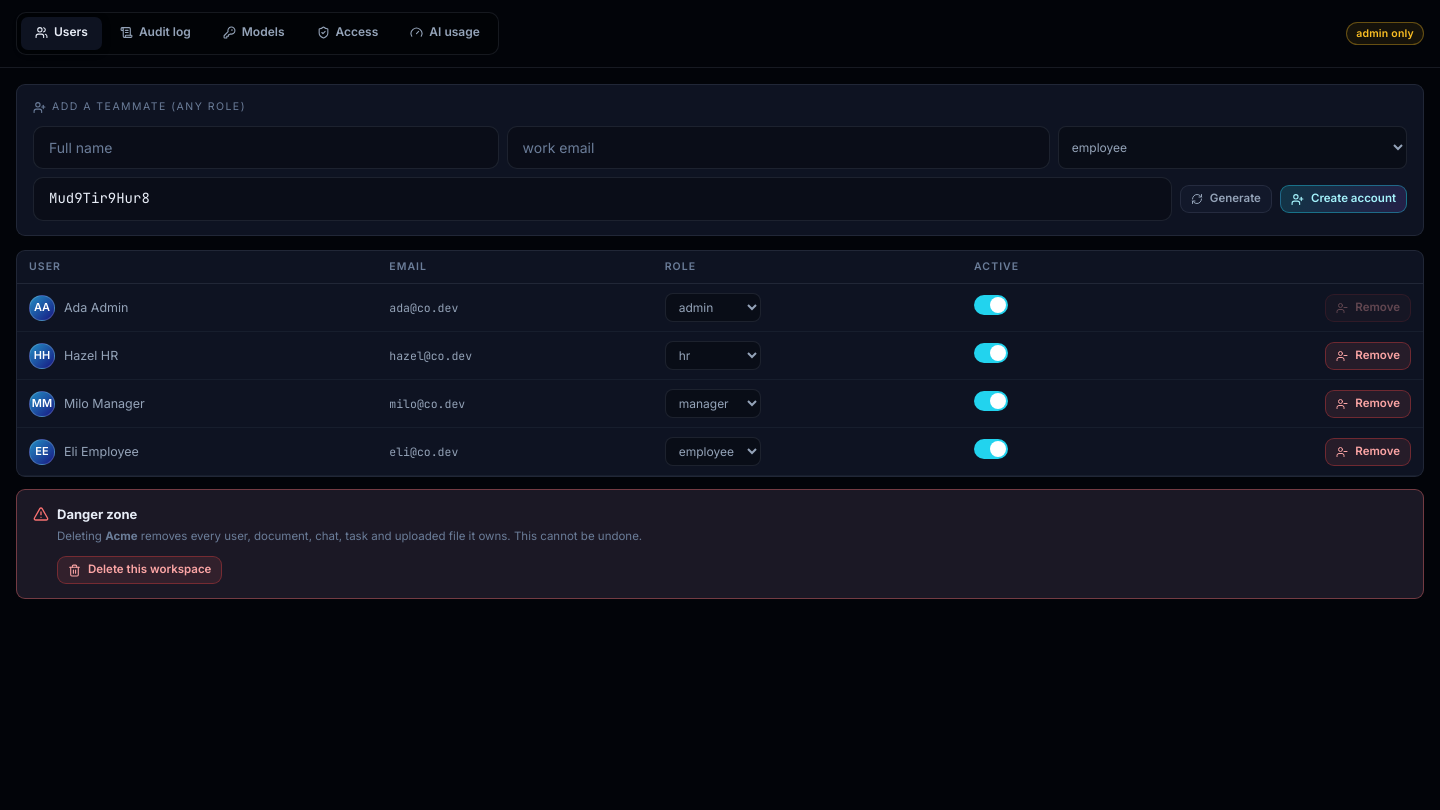
it: the confirmation › removes the person and takes them off the list once confirmed
This screenshot has width=1440, height=810.
Click the button "Remove" in the row of "Eli Employee": [1368, 452] box [1325, 438, 1411, 466]
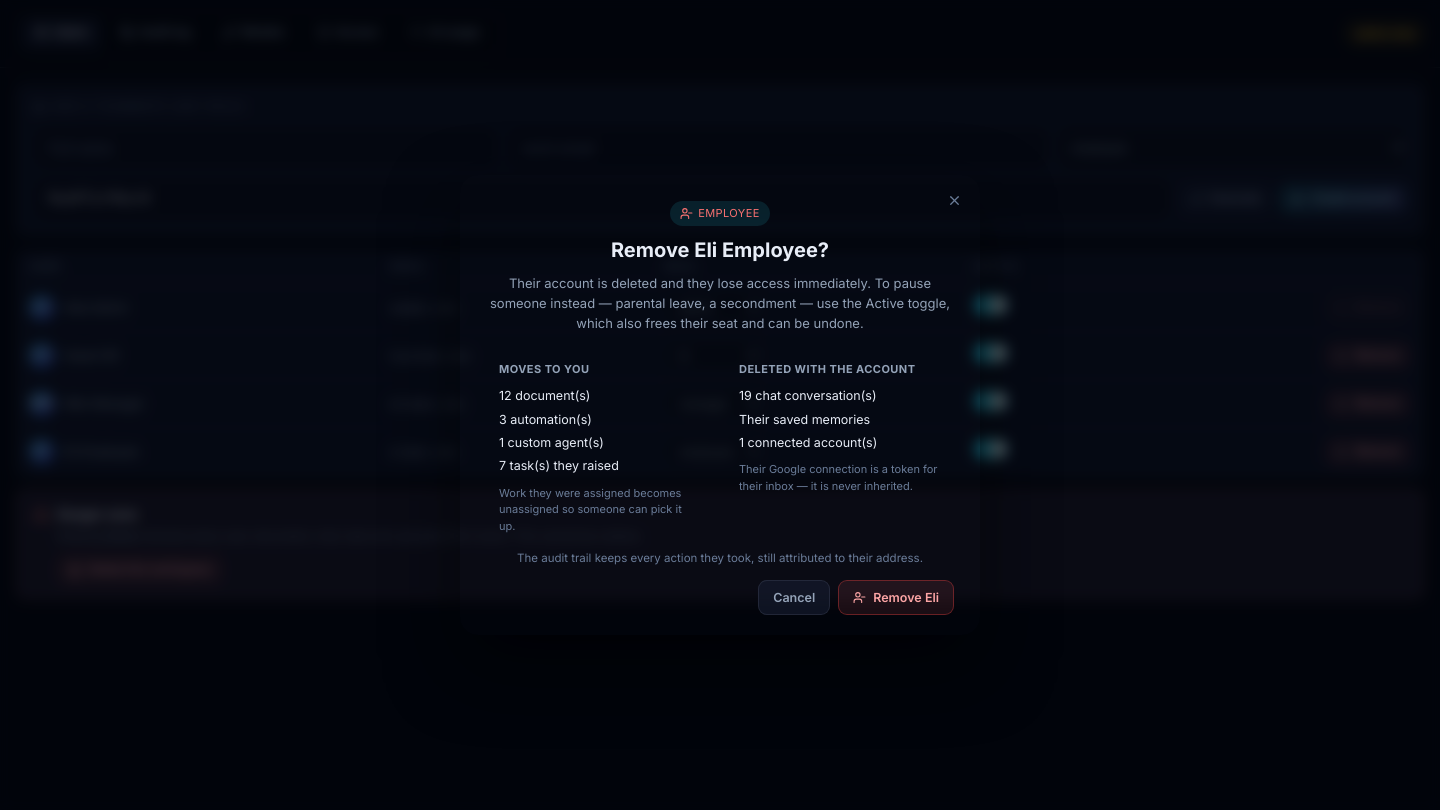
Click the button with test id "confirm-remove": [896, 598] box [838, 580, 954, 615]
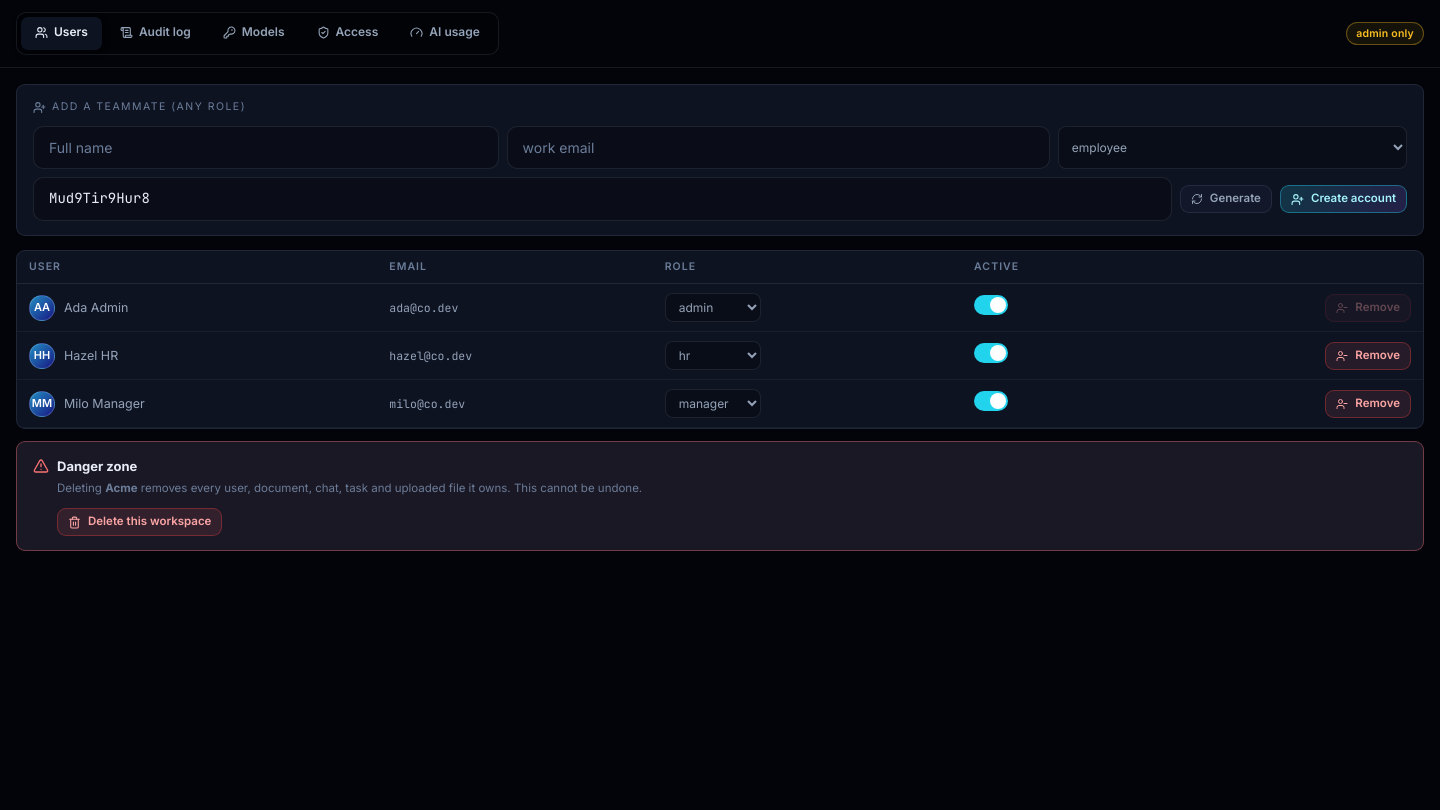
Now the element with test id "remove-dialog" is gone
